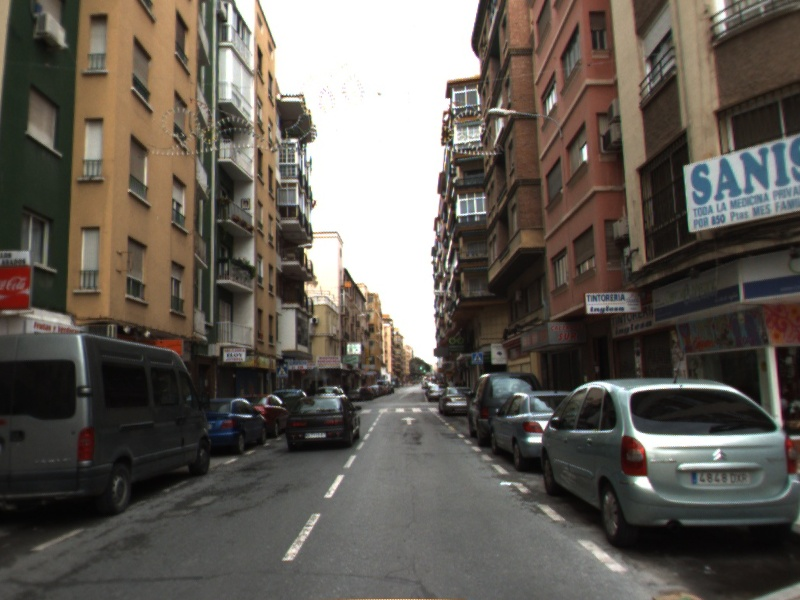STRAIGHT: (399, 414, 418, 427)
